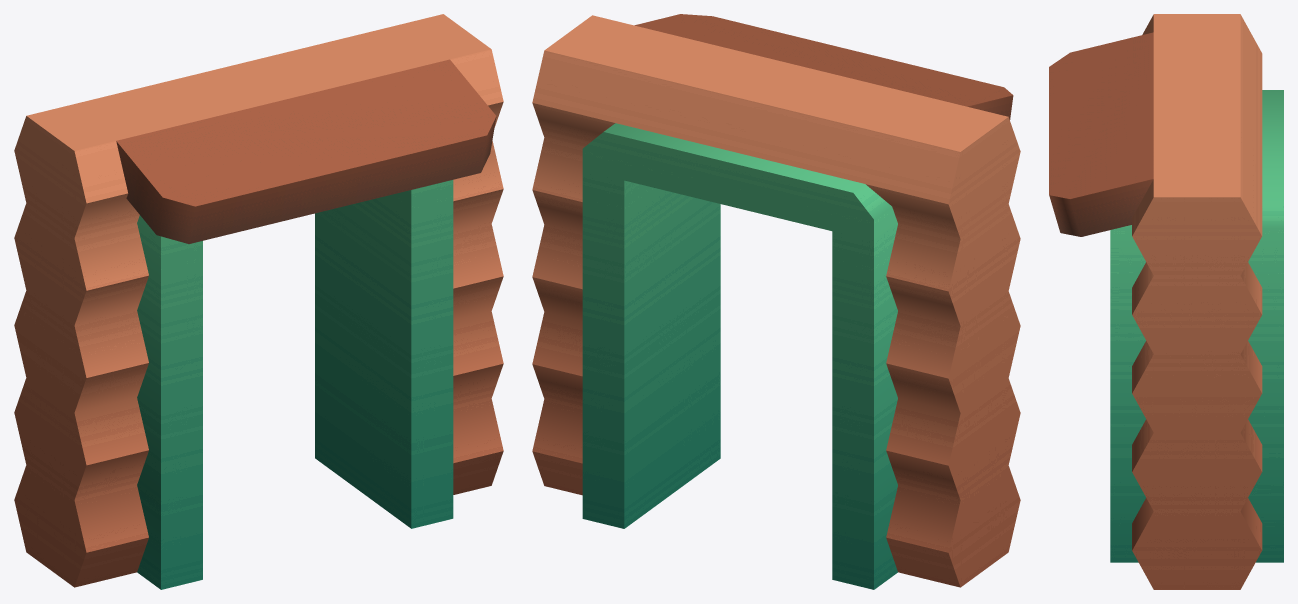
Rendered from cabin-overhang-doorway.glb.
3 views of the same model, side by side, from view 1: azimuth 30°, elevation 25°; view 2: azimuth 150°, elevation 25°; view 3: azimuth 270°, elevation 25° (orthographic). The views are drawn at different scales.
Parts seen in each view (by area): view 1: cabin-overhang-doorway; view 2: cabin-overhang-doorway; view 3: cabin-overhang-doorway.
Boxes of the visible parts, box(x1,y1,x2,y2) form: cabin-overhang-doorway: box(14, 14, 503, 589); cabin-overhang-doorway: box(532, 14, 1020, 589); cabin-overhang-doorway: box(1049, 14, 1283, 589).
Size of the model in its own units: 3 by 3 by 1.62.
1 material, 1 textured.
